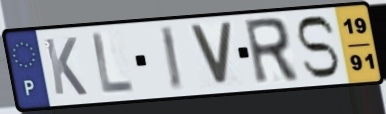I: (157, 24, 186, 93)
K: (42, 36, 90, 98)
L: (90, 31, 136, 96)
R: (241, 15, 302, 88)
S: (294, 14, 342, 81)
V: (186, 21, 235, 88)
